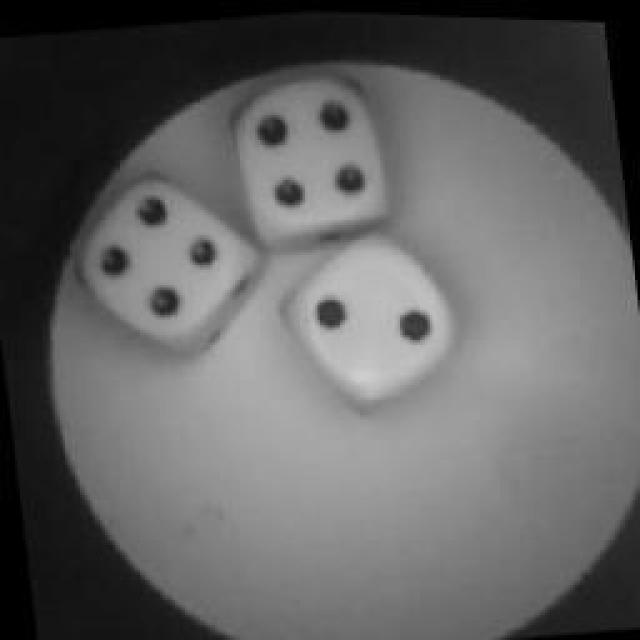dice_2: (282, 222, 470, 410)
dice_4: (70, 165, 248, 360), (222, 68, 400, 250)
